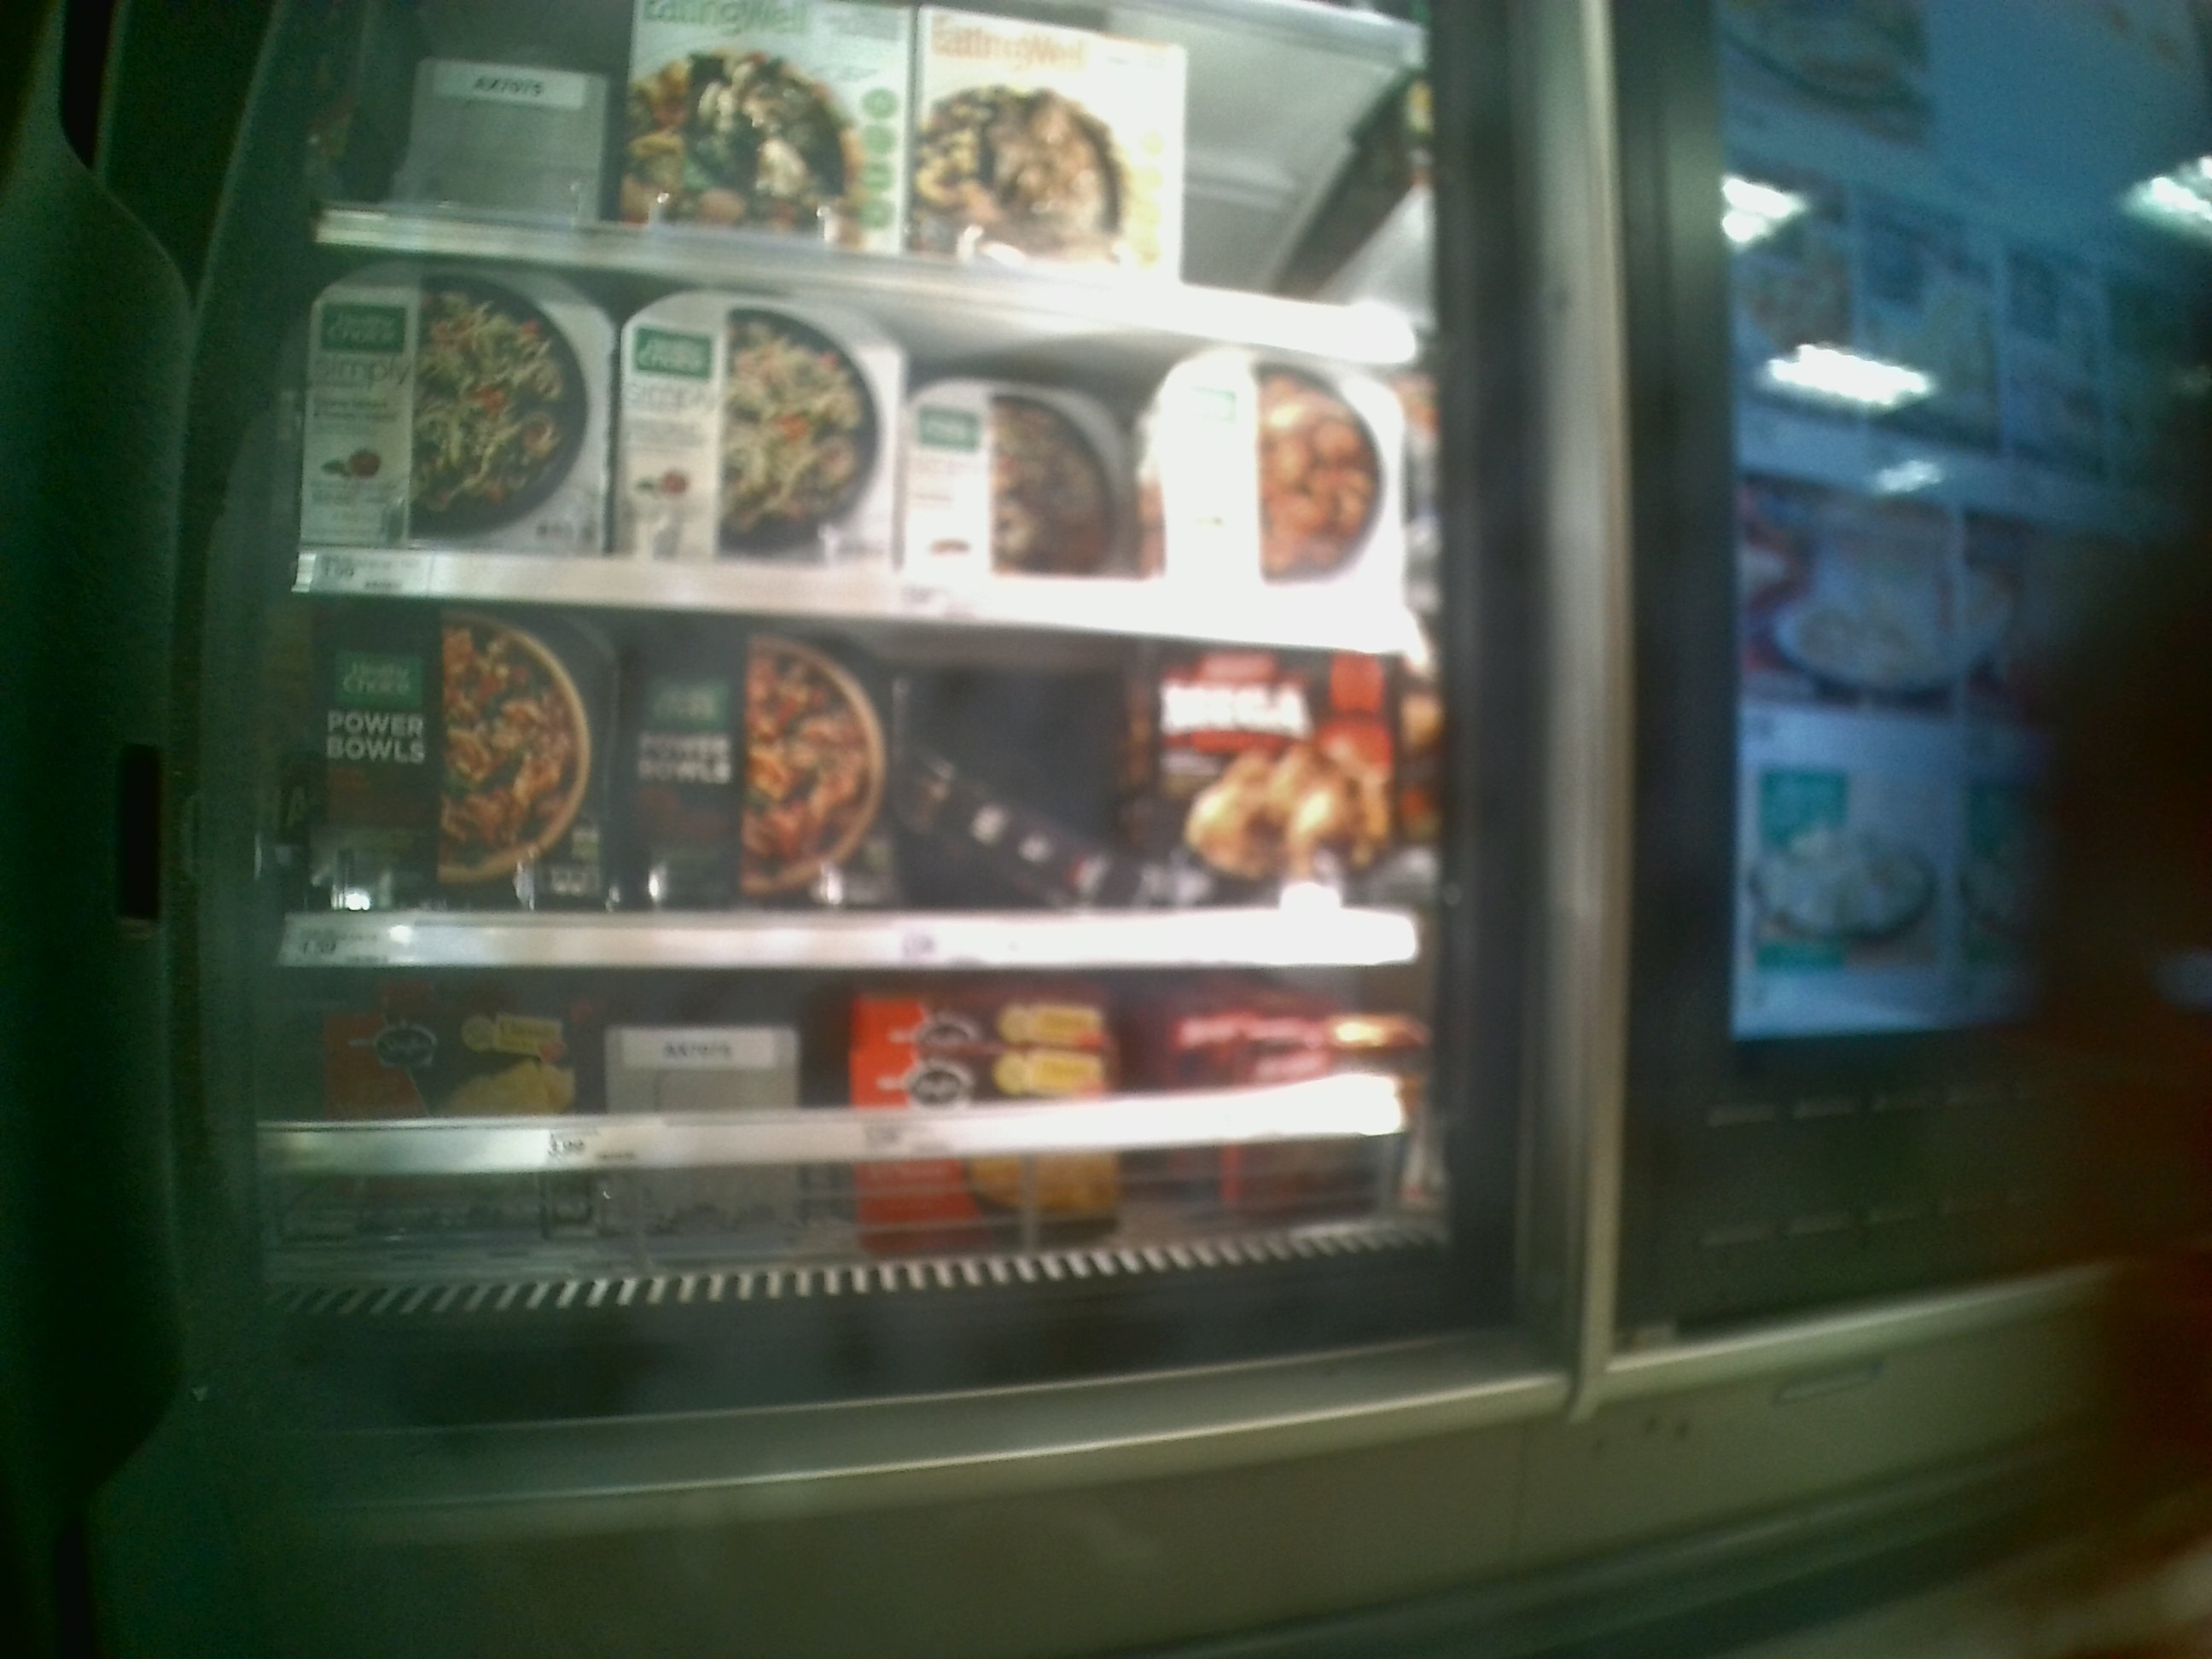shelf: (303, 235, 1435, 652), (273, 594, 1456, 967), (273, 964, 1433, 1244)
